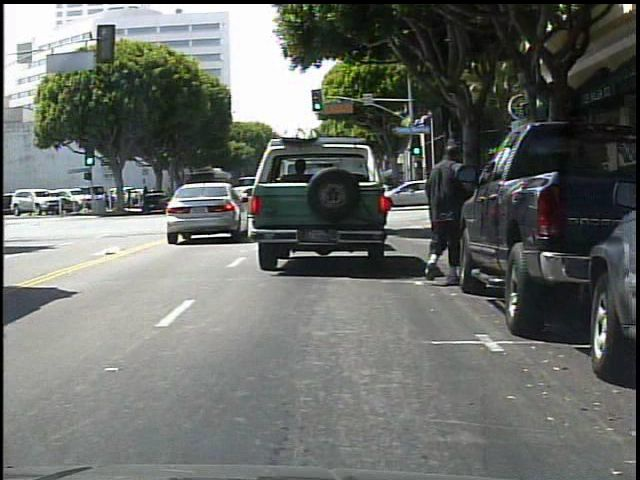person: (424, 143, 475, 281)
